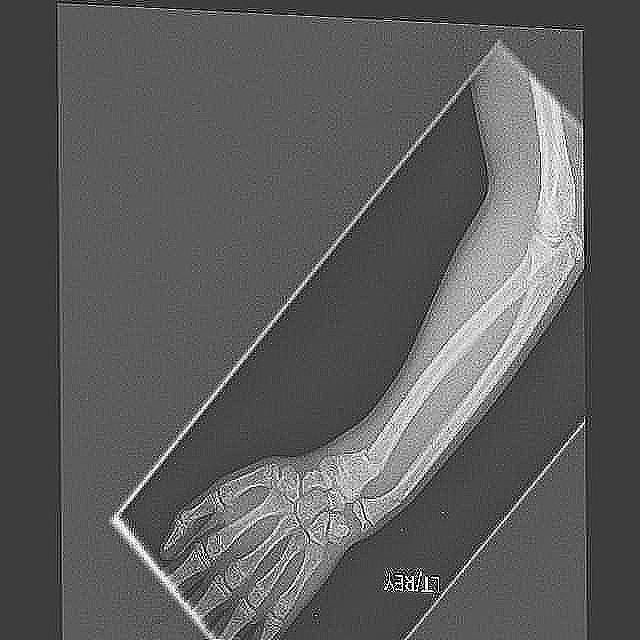bone: (350, 440, 390, 475), (382, 488, 408, 509)
